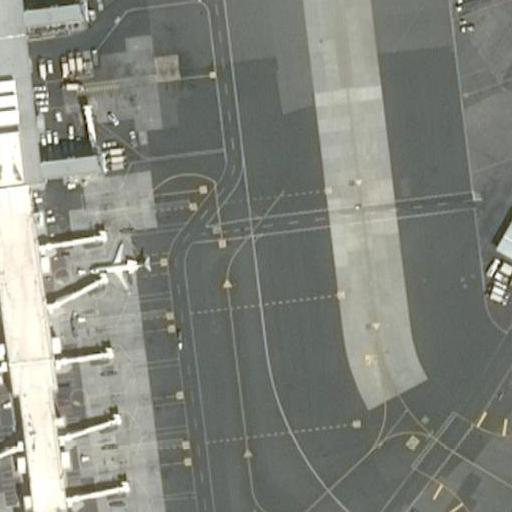Aircraft: (87, 239, 154, 289)
